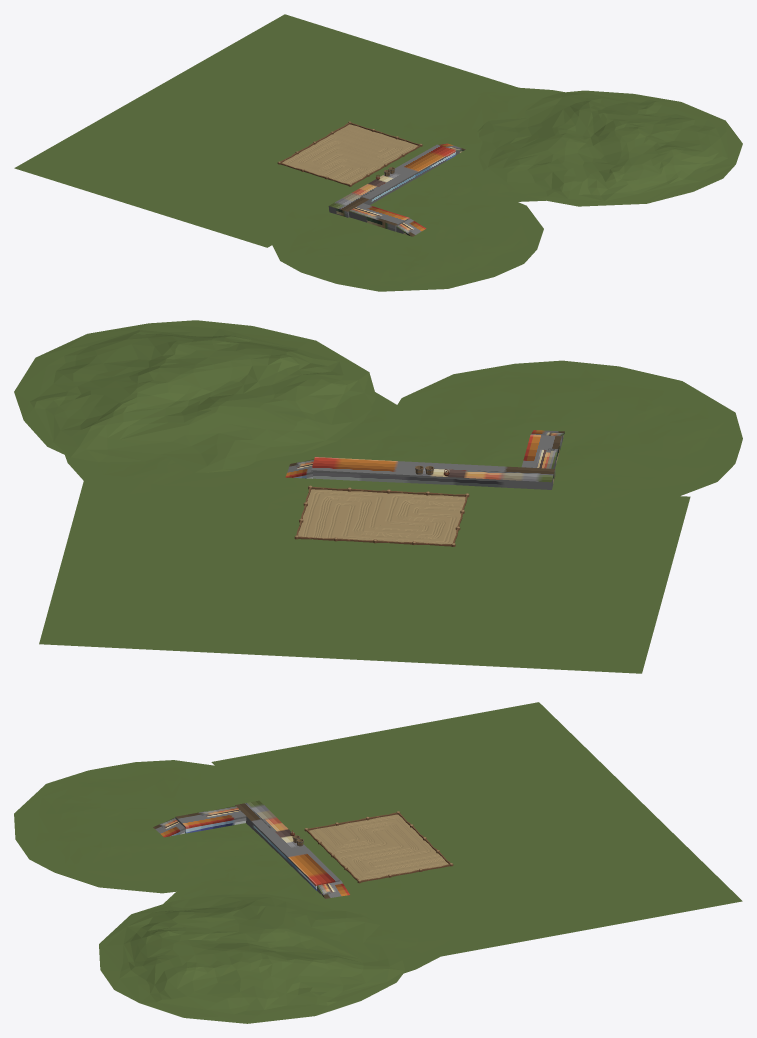
Rendered from floor.glb.
The picture shows the model from 3 angles, top to bottom: view 1: azimuth 30°, elevation 25°; view 2: azimuth 150°, elevation 25°; view 3: azimuth 270°, elevation 25°; orthographic projection. The views are drawn at different scales.
Visible parts, largest first — view 1: SM_Env_Tile_Grass_3, SM_Env_GroundMound_110, SM_Env_GroundMound_52, SM_Env_GroundMound_51, cube1_floor_hide, SM_Env_GroundMound_109, cube4_floor_hide; view 2: SM_Env_Tile_Grass_3, SM_Env_GroundMound_110, SM_Env_GroundMound_52, SM_Env_GroundMound_51, cube1_floor_hide, SM_Env_GroundMound_109, cube4_floor_hide, SM_Env_Tile_Zen_3, SM_Env_Tile_Zen_7, SM_Env_Tile_Zen_02_90, SM_Env_Tile_Zen_8, SM_Env_Tile_Zen_10 (+7 smaller); view 3: SM_Env_Tile_Grass_3, SM_Env_GroundMound_110, SM_Env_GroundMound_52, SM_Env_GroundMound_51, cube1_floor_hide, SM_Env_GroundMound_109, cube4_floor_hide.
Boxes of the visible parts, left/top/right/bottom form: SM_Env_Tile_Grass_3: left=14, top=14, right=537, bottom=247; SM_Env_GroundMound_110: left=477, top=90, right=742, bottom=206; SM_Env_GroundMound_52: left=272, top=181, right=543, bottom=291; SM_Env_GroundMound_51: left=402, top=87, right=564, bottom=201; cube1_floor_hide: left=328, top=144, right=455, bottom=217; SM_Env_GroundMound_109: left=372, top=156, right=472, bottom=198; cube4_floor_hide: left=348, top=203, right=409, bottom=231; SM_Env_Tile_Grass_3: left=39, top=467, right=690, bottom=673; SM_Env_GroundMound_110: left=14, top=320, right=375, bottom=472; SM_Env_GroundMound_52: left=397, top=360, right=742, bottom=509; SM_Env_GroundMound_51: left=65, top=392, right=405, bottom=510; cube1_floor_hide: left=311, top=457, right=555, bottom=489; SM_Env_GroundMound_109: left=347, top=435, right=453, bottom=492; cube4_floor_hide: left=521, top=434, right=561, bottom=468; SM_Env_Tile_Zen_3: left=379, top=509, right=423, bottom=527; SM_Env_Tile_Zen_7: left=340, top=507, right=383, bottom=525; SM_Env_Tile_Zen_02_90: left=384, top=493, right=427, bottom=510; SM_Env_Tile_Zen_8: left=345, top=491, right=388, bottom=509; SM_Env_Tile_Zen_10: left=303, top=505, right=344, bottom=523; SM_Env_Tile_Grass_3: left=211, top=702, right=742, bottom=961; SM_Env_GroundMound_110: left=99, top=894, right=405, bottom=1023; SM_Env_GroundMound_52: left=14, top=760, right=310, bottom=893; SM_Env_GroundMound_51: left=163, top=871, right=449, bottom=973; cube1_floor_hide: left=235, top=800, right=340, bottom=890; SM_Env_GroundMound_109: left=222, top=844, right=342, bottom=881; cube4_floor_hide: left=175, top=806, right=246, bottom=833.
Bounding box in the file's own units: 56.99 × 1.77 × 54.58.
1 material, 1 textured.
